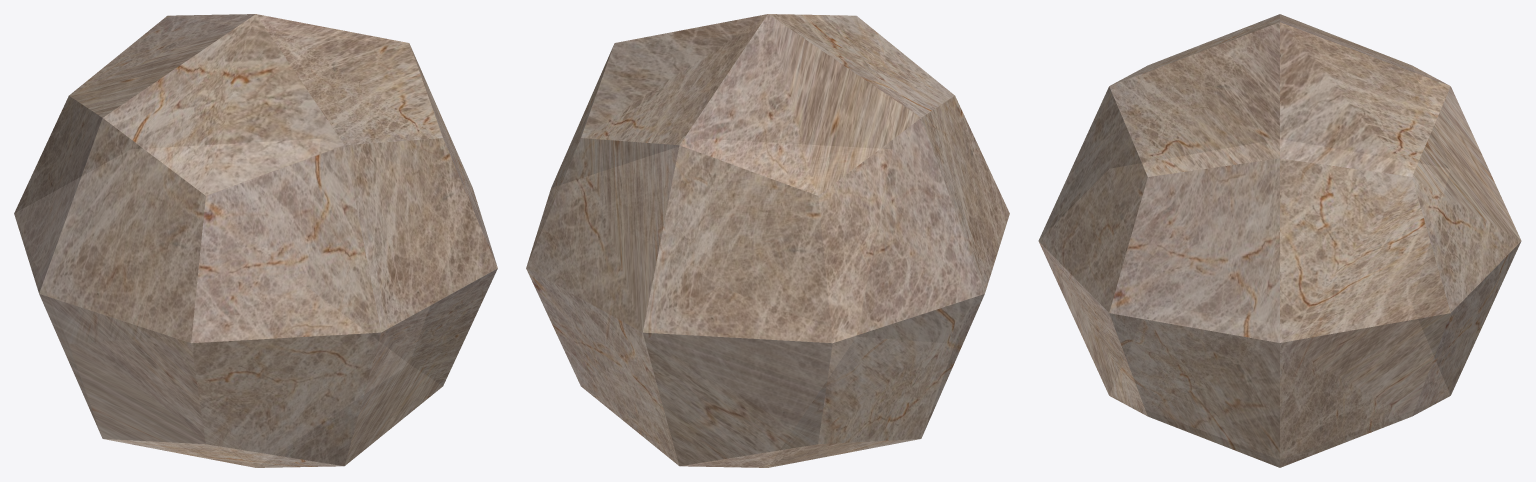
Rendered from DeltoidalIcositetrahedron.obj.
3 views of the same model, side by side, from view 1: azimuth 30°, elevation 25°; view 2: azimuth 150°, elevation 25°; view 3: azimuth 270°, elevation 25° (orthographic). The views are drawn at different scales.
Size of the model in its own units: 2.83 by 2.83 by 2.83.
Materials: 1 (1 with a texture image).
